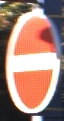No entry: (5, 10, 59, 111)
